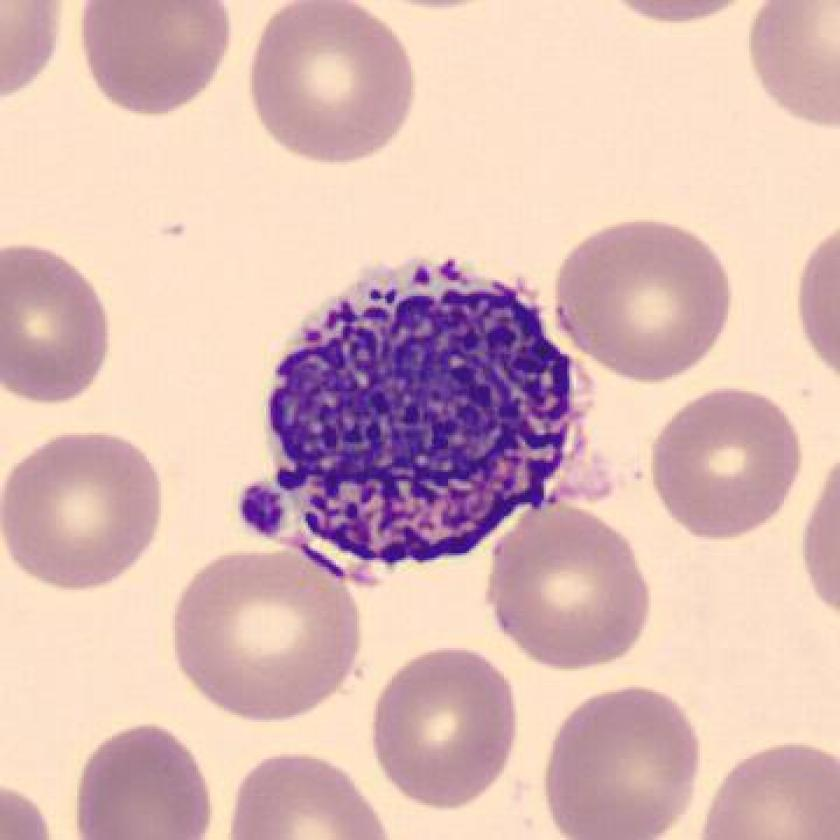basophil: (253, 251, 596, 572)
